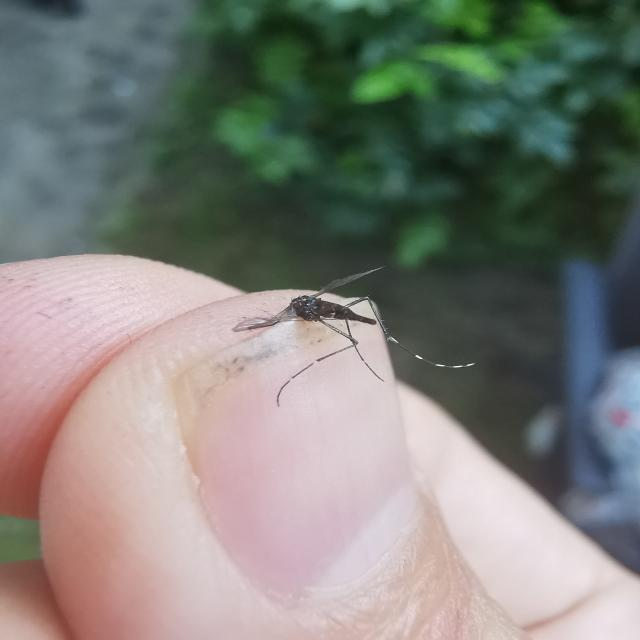albopictus: (232, 254, 474, 413)
